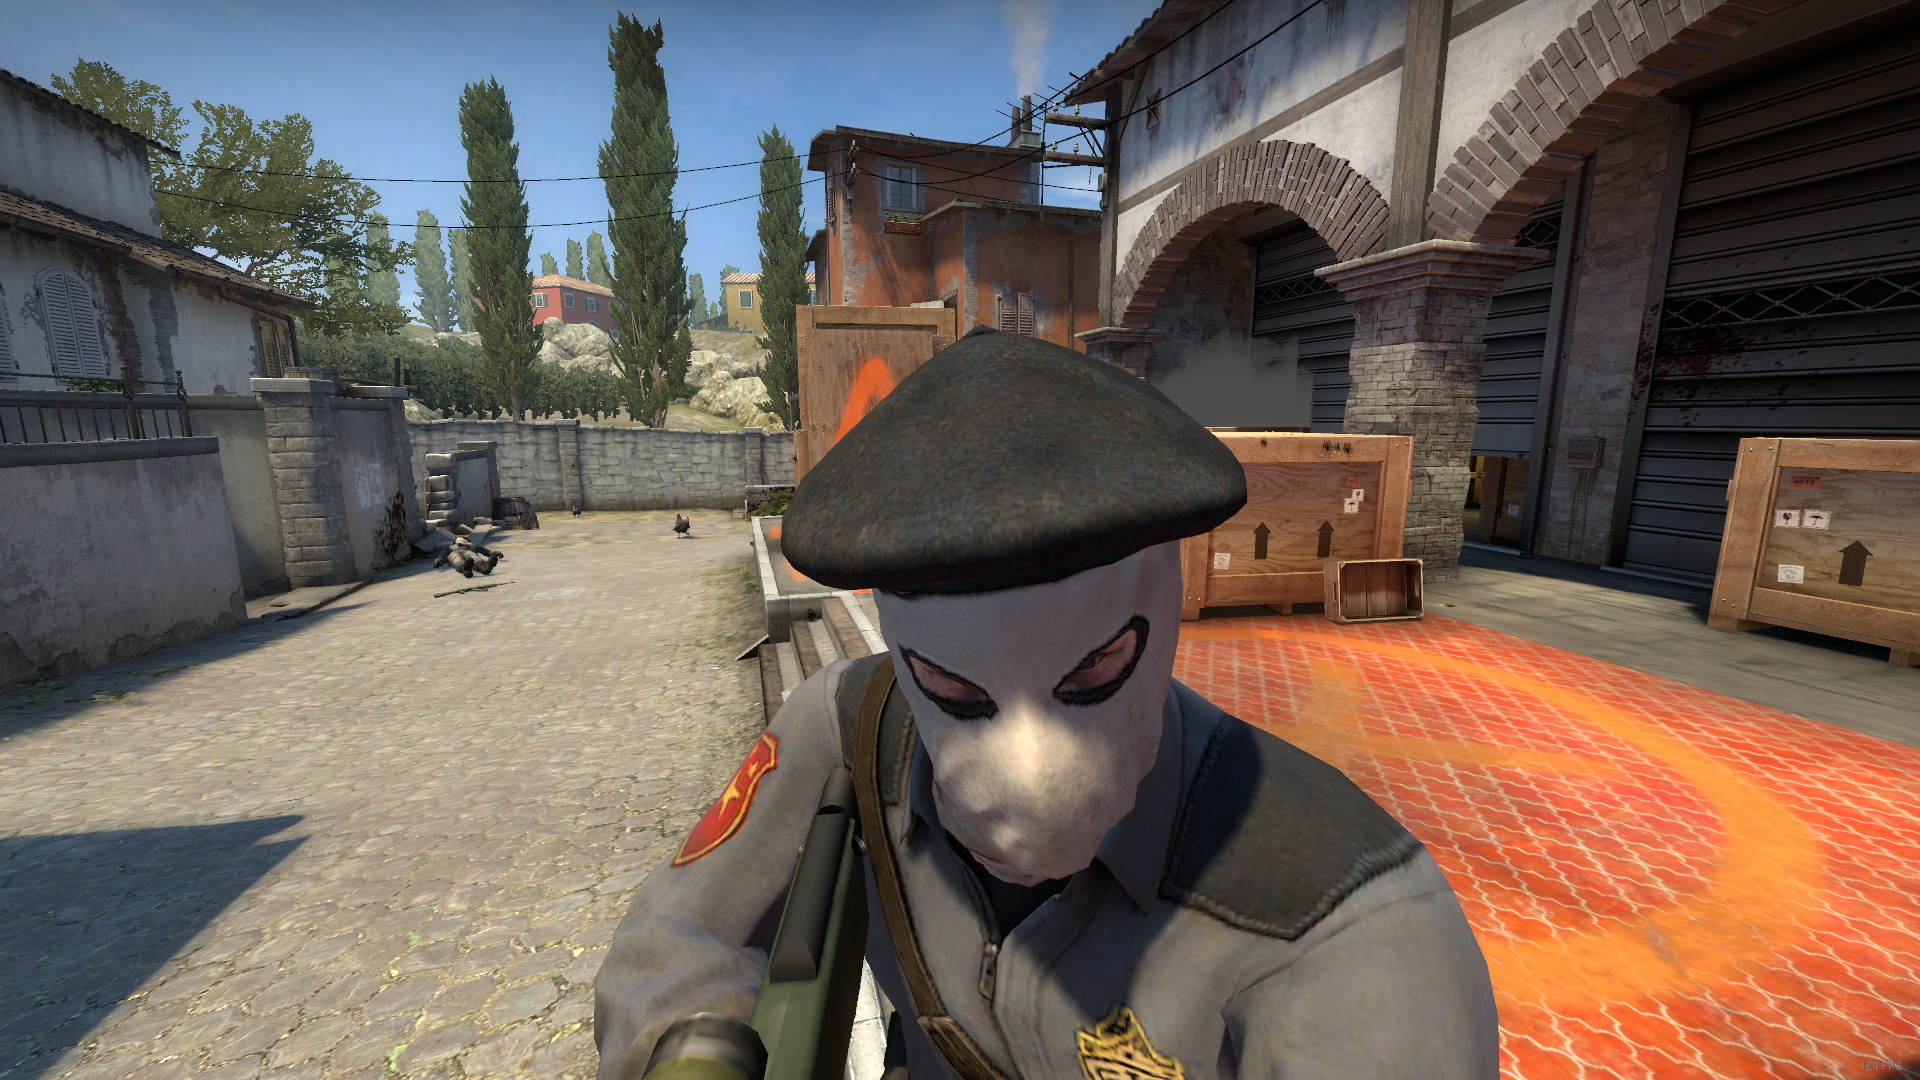t: (559, 323, 1524, 1079)
